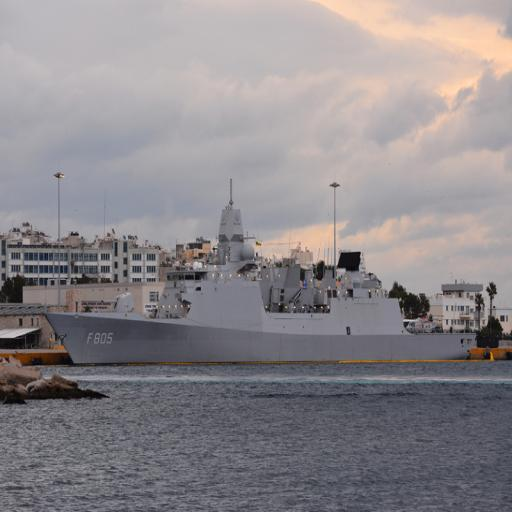Fragata: (40, 171, 491, 374)
